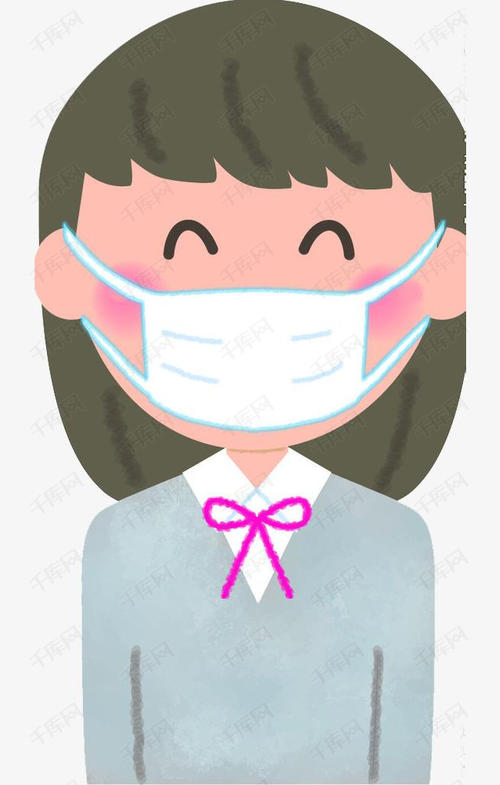yes_mask: (31, 8, 469, 457)
